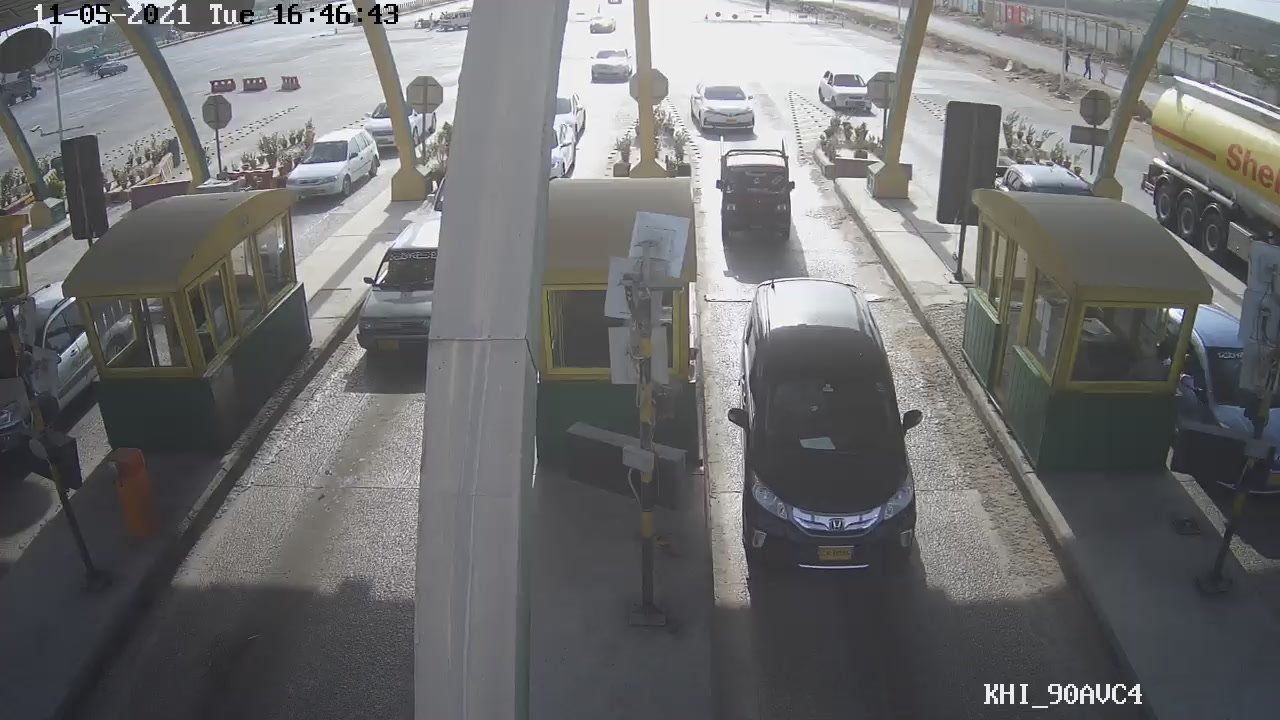F1: (719, 274, 944, 587), (705, 133, 803, 245)
